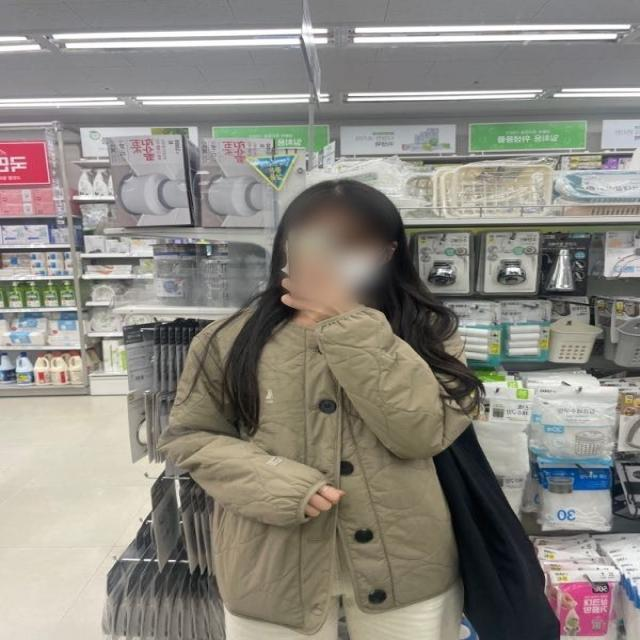padding: (153, 291, 479, 631)
